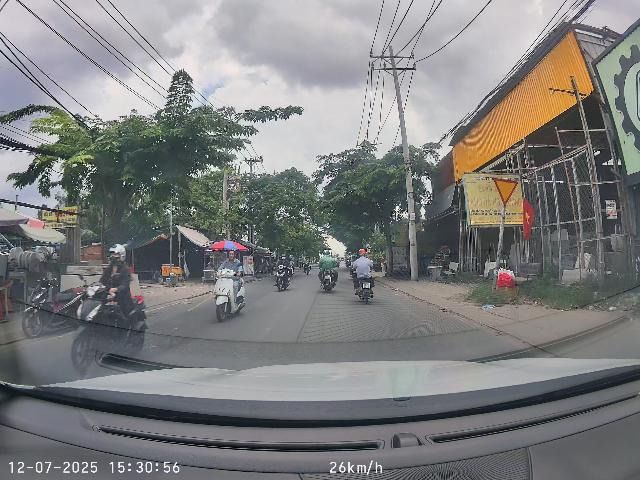208-giao-nhau-voi-duong-uu-tien: (493, 178, 519, 206)
